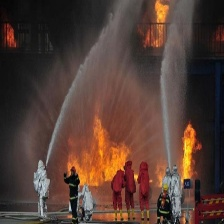fire: (65, 128, 135, 186), (178, 123, 203, 186), (150, 1, 168, 46), (4, 23, 18, 48)
